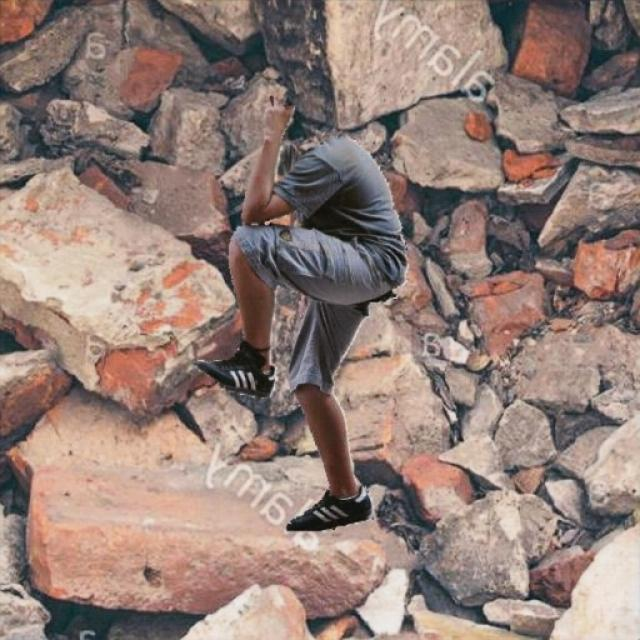Person in Rubble: (194, 96, 408, 530)
